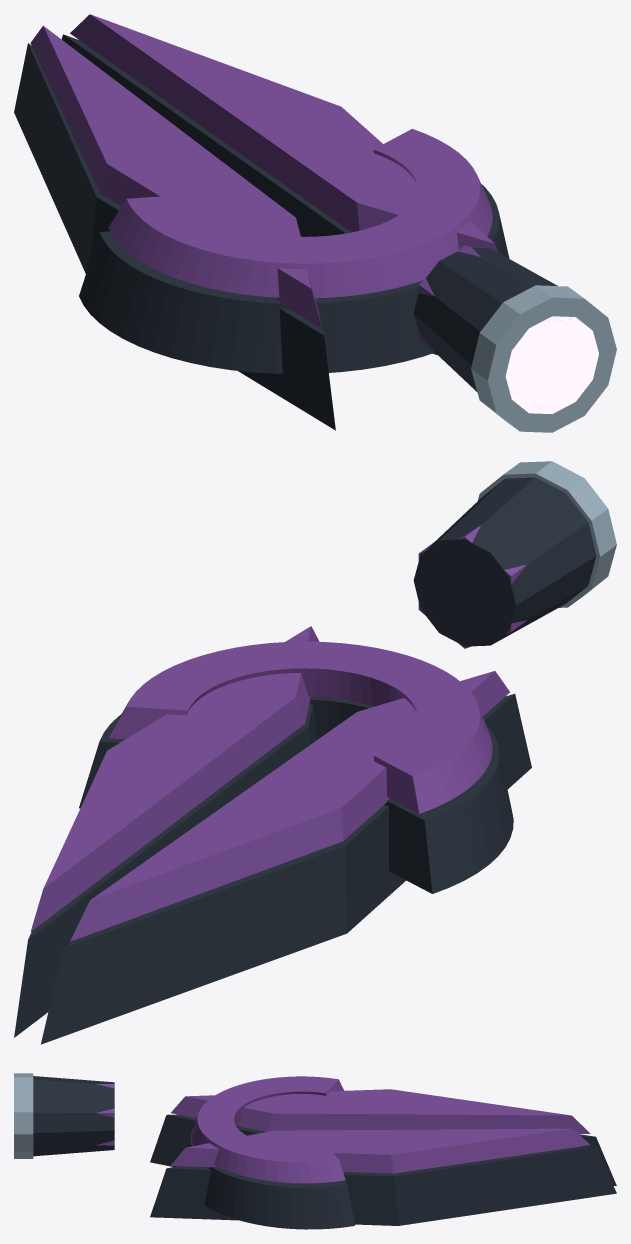
File: c5_kamikaze.glb
3 views of the same model, one above another, from view 1: azimuth 30°, elevation 25°; view 2: azimuth 150°, elevation 25°; view 3: azimuth 270°, elevation 25° (orthographic). The views are drawn at different scales.
Visible parts, largest first — view 1: kamikaze / Armor, kamikaze / Chassis, kamikaze / Titanium, kamikaze / Energy; view 2: kamikaze / Chassis, kamikaze / Armor, kamikaze / Titanium; view 3: kamikaze / Chassis, kamikaze / Armor, kamikaze / Titanium.
Boxes of the visible parts, <box> form: kamikaze / Armor: <box>30,14,498,351</box>; kamikaze / Chassis: <box>14,34,557,430</box>; kamikaze / Titanium: <box>471,285,616,432</box>; kamikaze / Energy: <box>505,316,598,413</box>; kamikaze / Chassis: <box>14,477,596,1044</box>; kamikaze / Armor: <box>30,525,526,941</box>; kamikaze / Titanium: <box>477,461,616,607</box>; kamikaze / Chassis: <box>33,1076,616,1229</box>; kamikaze / Armor: <box>96,1076,590,1183</box>; kamikaze / Titanium: <box>14,1073,33,1158</box>.
Bounding box in the file's own units: 0.8493 × 0.42 × 2.04.
